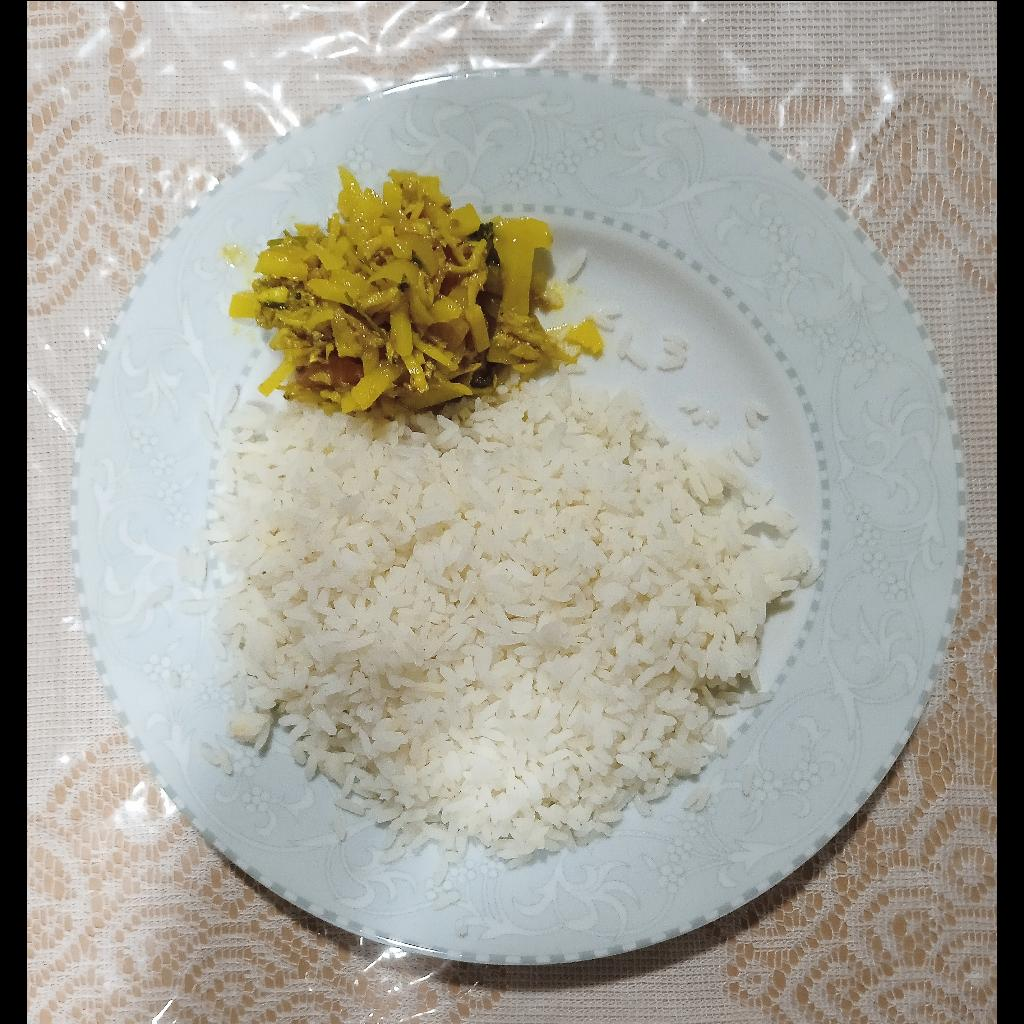cabbage: (228, 164, 606, 415)
rice: (180, 367, 814, 865)
